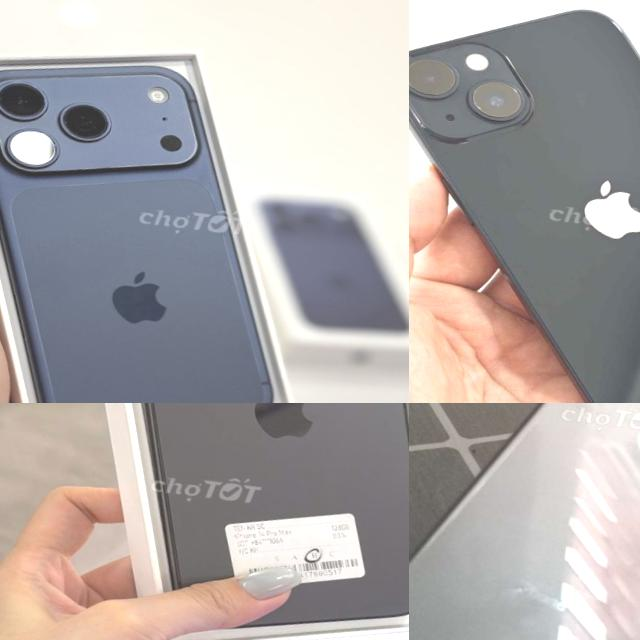gen_14: (409, 0, 640, 403), (61, 403, 409, 640)
gen_17: (0, 49, 327, 403)
gen_x_xs: (409, 403, 640, 640)
